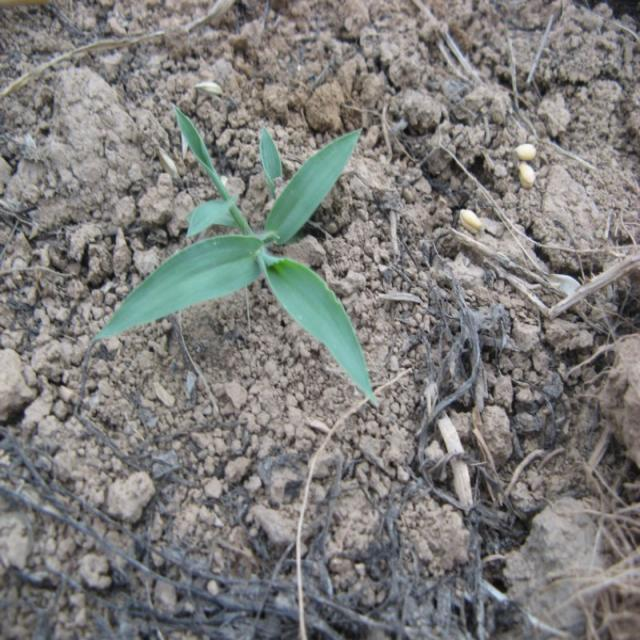bg: (96, 102, 381, 406)
